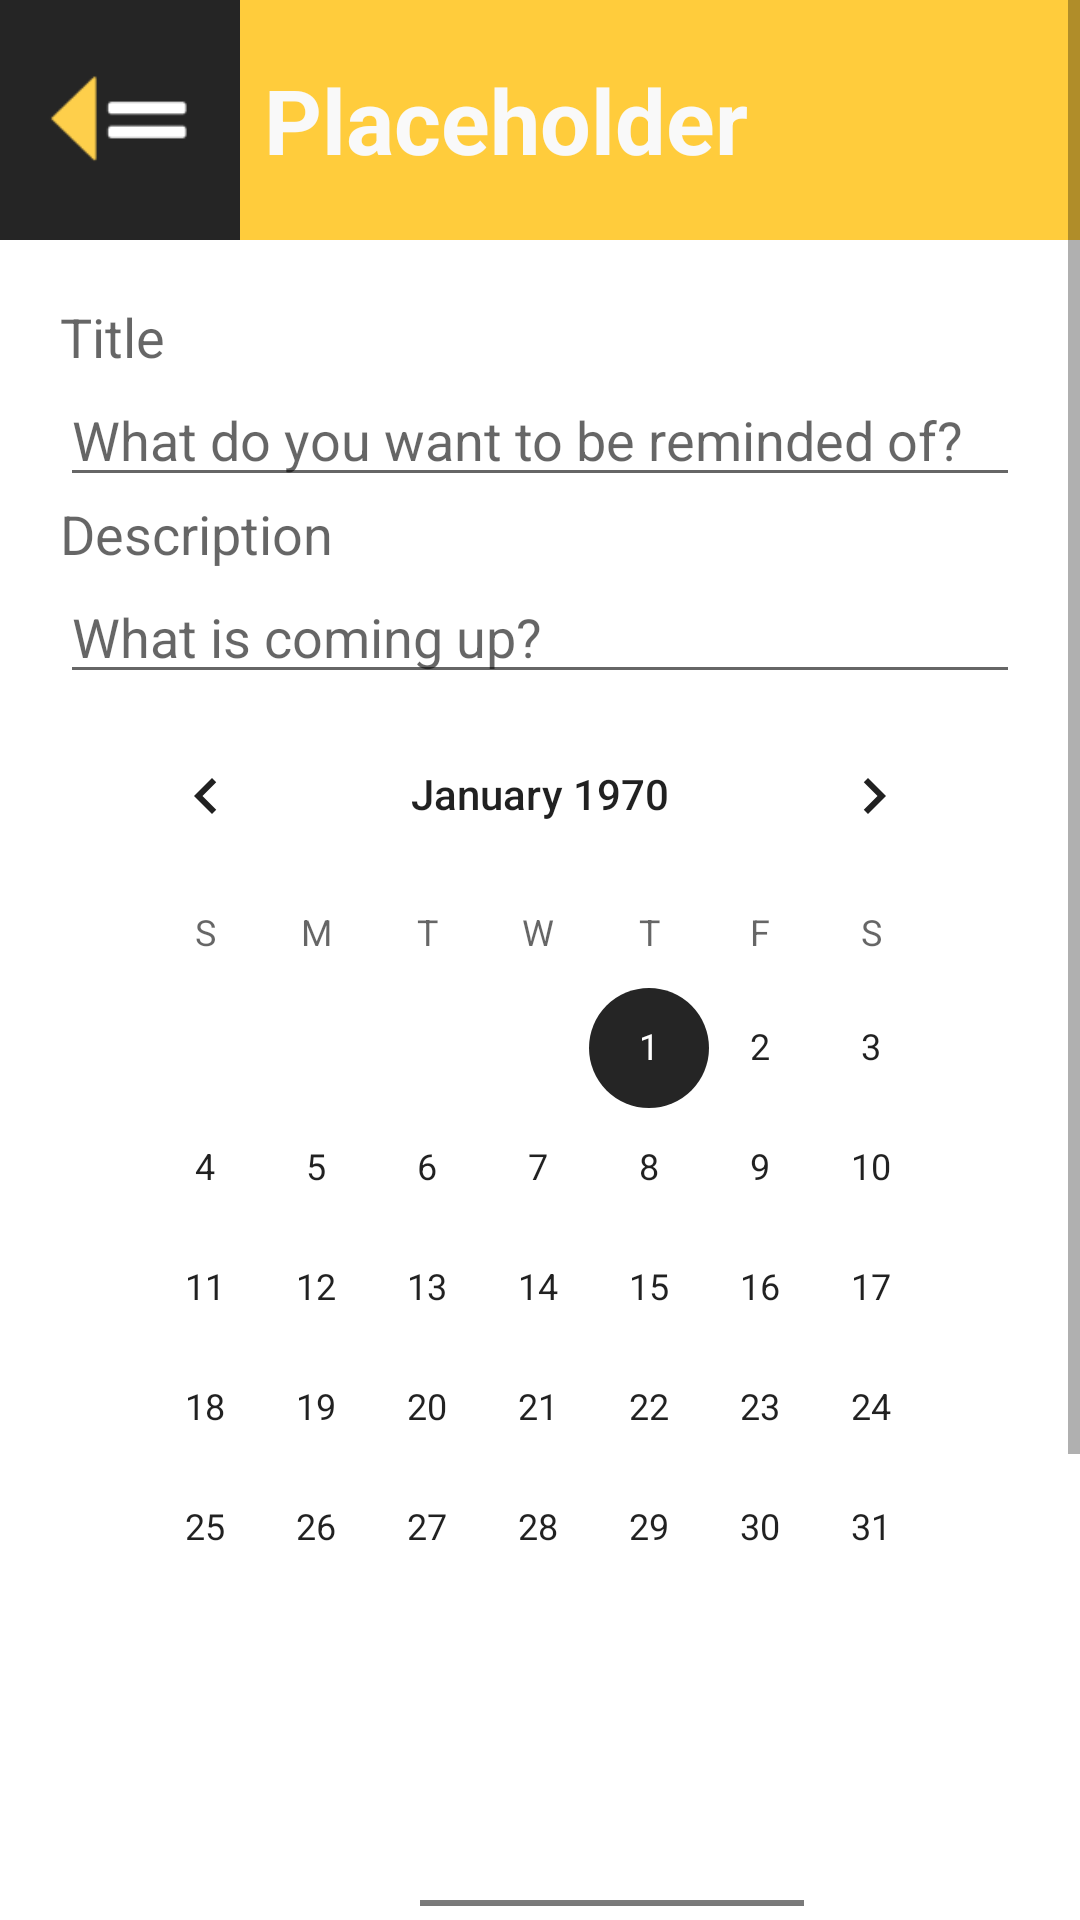

Icon click points for this 1080x1920 phone screenshot, format [x,y]:
back: [120,120]
